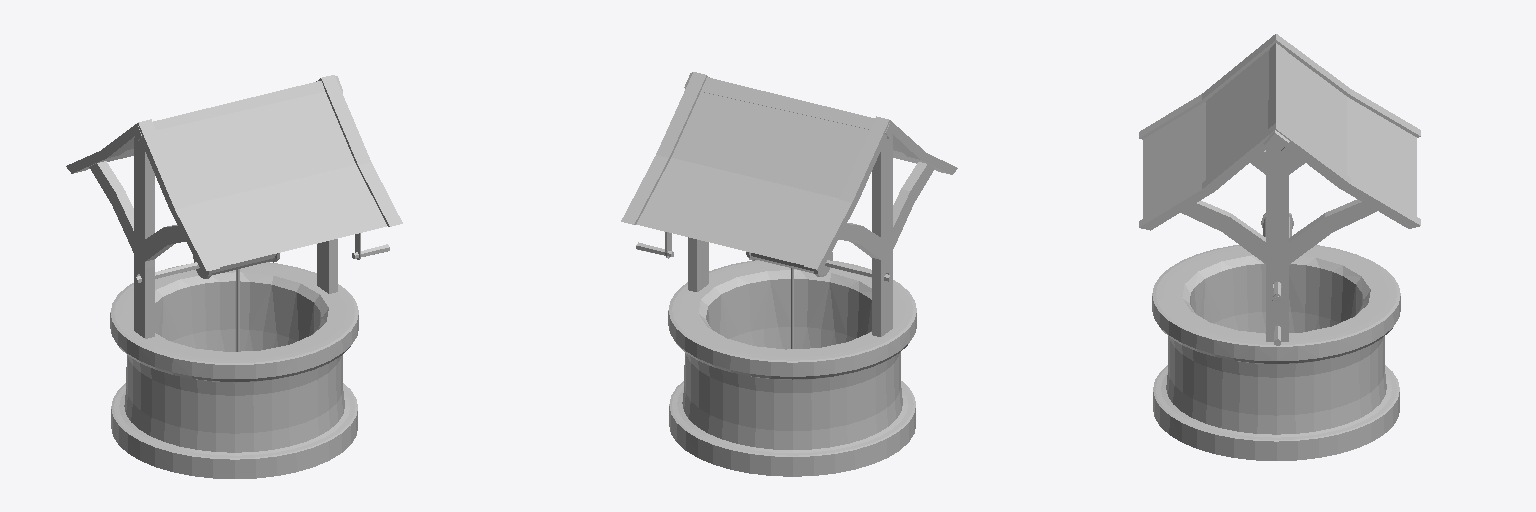
The model's file is well7.obj.
The picture shows the model from 3 angles: view 1: azimuth 30°, elevation 25°; view 2: azimuth 150°, elevation 25°; view 3: azimuth 270°, elevation 25°; orthographic projection.
Parts seen in each view (by area): view 1: well_lower_Cylinder; view 2: well_lower_Cylinder; view 3: well_lower_Cylinder.
Part boxes in pixels (left/top/right/bottom): well_lower_Cylinder: left=66, top=75, right=402, bottom=478; well_lower_Cylinder: left=621, top=72, right=957, bottom=476; well_lower_Cylinder: left=1139, top=34, right=1420, bottom=460.
Bounding box in the file's own units: 14.51 × 17.38 × 13.56.